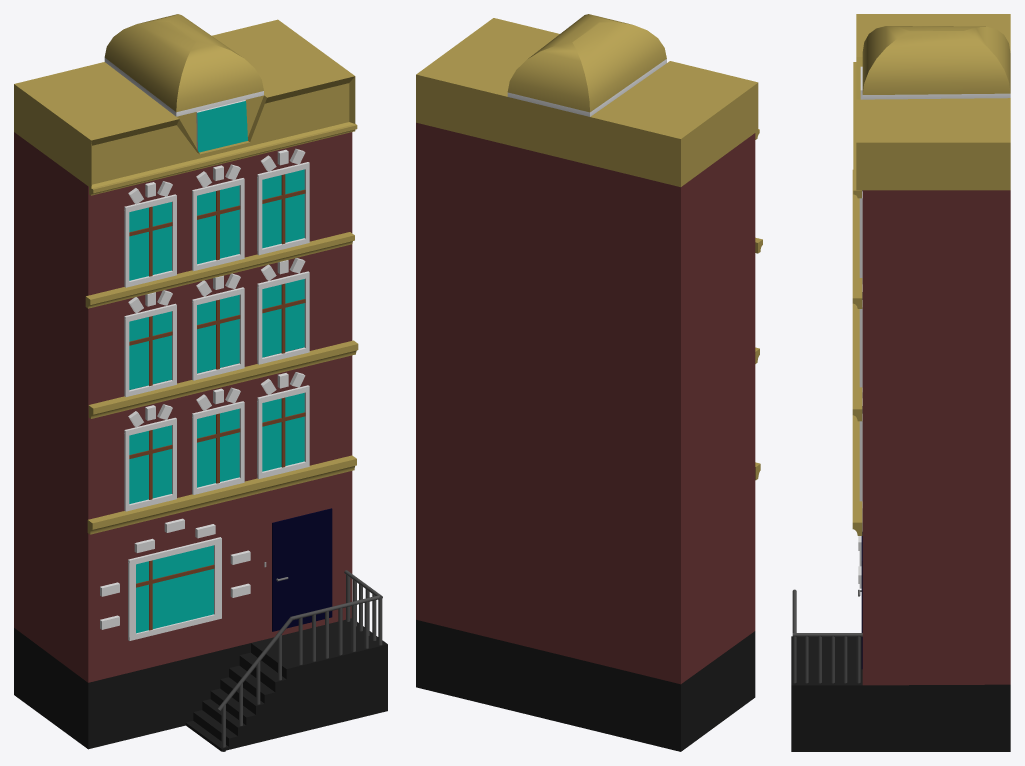
File: huis 2.0.fbx
The picture shows the model from 3 angles, left to right: view 1: azimuth 30°, elevation 25°; view 2: azimuth 150°, elevation 25°; view 3: azimuth 270°, elevation 25°; orthographic projection.
Parts seen in each view (by area): view 1: pCube54, pCube75, pCube79, pCube82, pCube84; view 2: pCube54; view 3: pCube54, pCube75, pCube82, pCube79, pCube84.
Boxes of the visible parts, x1,y1,x2,y2 form: pCube54: (14,14,387,751); pCube75: (87,455,356,534); pCube79: (88,340,358,418); pCube82: (85,232,354,308); pCube84: (89,124,357,195); pCube54: (416,14,758,751); pCube54: (791,14,1010,751); pCube75: (852,415,862,535); pCube82: (852,170,862,308); pCube79: (852,303,862,421); pCube84: (853,62,861,198).
Size of the model in its own units: 32.39 by 76.21 by 23.01.
